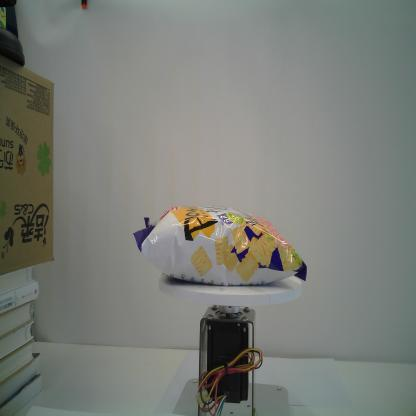Puffed Food: (133, 201, 308, 286)
